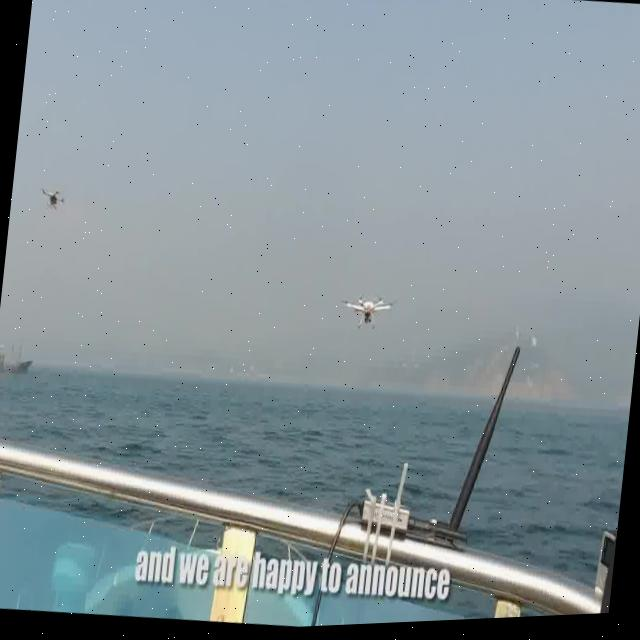drone: (337, 288, 396, 341), (37, 184, 63, 212)
